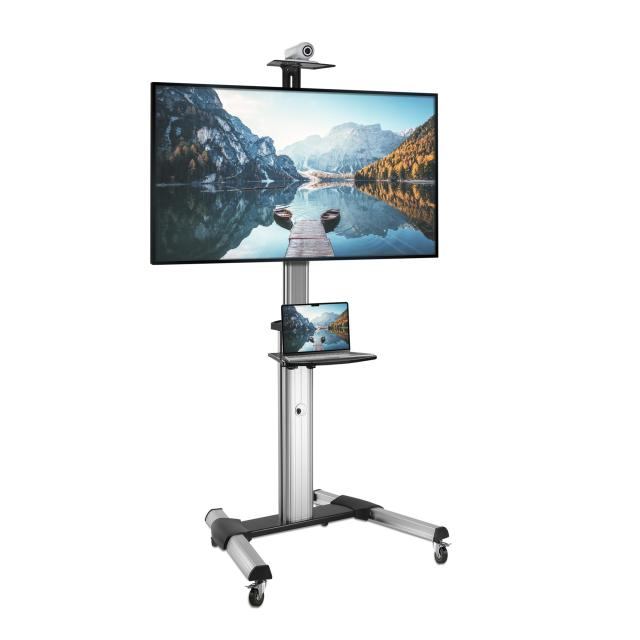electronics: (152, 59, 449, 606), (151, 83, 437, 264), (281, 302, 371, 365), (281, 302, 350, 354), (267, 57, 335, 88), (282, 351, 372, 365), (285, 42, 314, 60), (288, 351, 318, 360), (323, 350, 351, 358), (295, 402, 307, 416), (299, 43, 312, 54), (301, 43, 305, 53), (295, 49, 300, 54), (290, 48, 295, 49), (152, 177, 153, 179), (374, 358, 374, 358)
